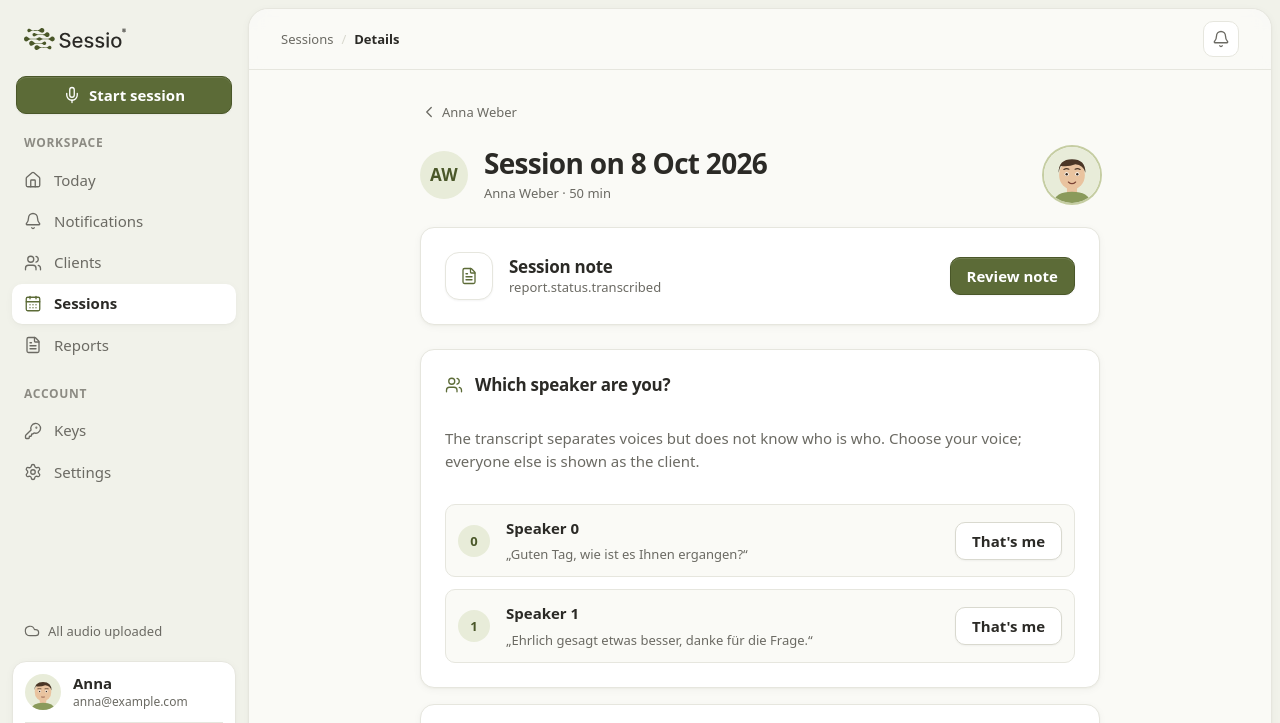
Test case: session page › asks who the therapist is, then labels the transcript
Expected: the heading "Which speaker are you?" is shown, [445,373,670,396]
Expected: the text "Speaker 0" is shown, [506,518,579,538]
What coordinates should you click on to do the following:
click the 1st button "That's me"
I would click on:
 (1009, 541)
Its box is [955,522,1062,560].
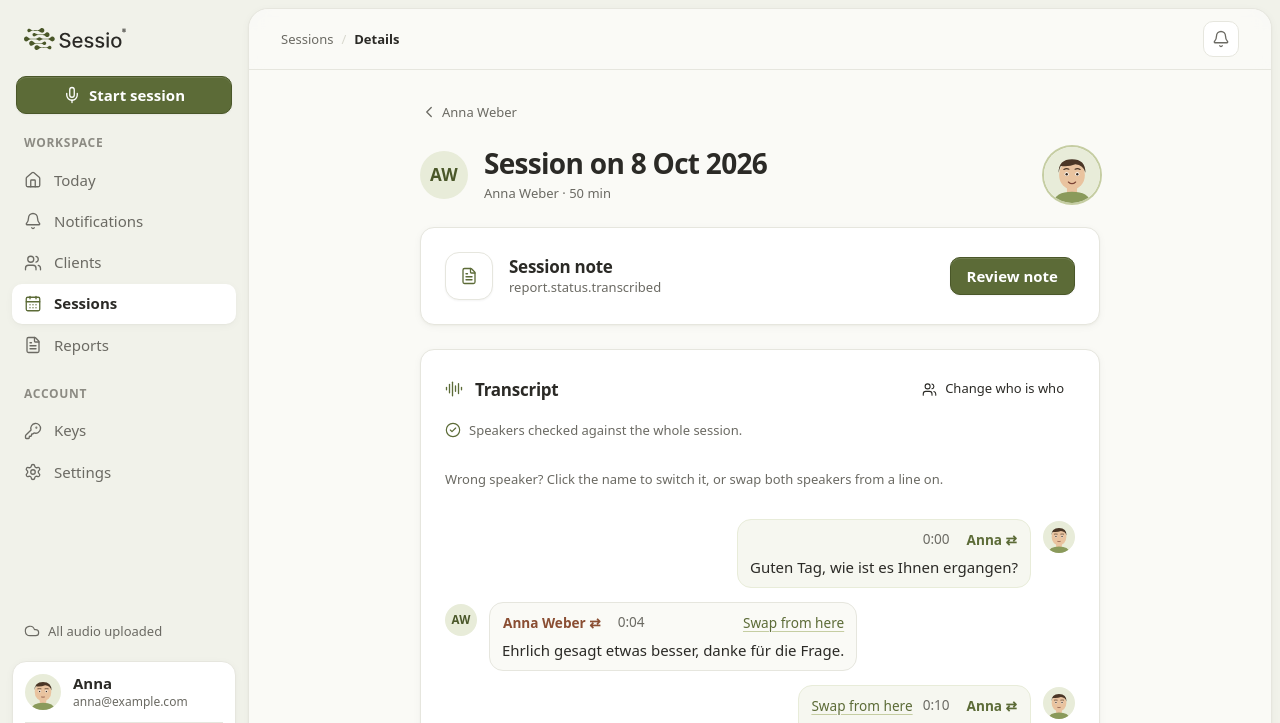
Expected: the number of buttons named "Anna at" is 2, [960,528,1024,551]; [960,694,1024,717]
Expected: the number of buttons named "Anna Weber at" is 1, [496,611,608,634]
Expected: the text with class "initials" in the row of "0:04" reads "AW", [452,612,471,627]
